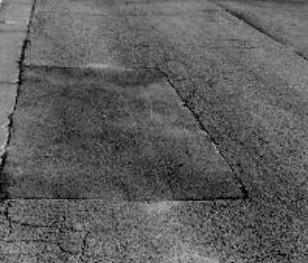alligator-crack: (1, 205, 137, 263), (205, 214, 307, 262), (164, 52, 228, 108), (0, 150, 30, 199)
crack: (161, 70, 251, 197), (209, 0, 306, 64), (8, 1, 37, 148), (16, 192, 253, 202), (22, 62, 161, 74)
